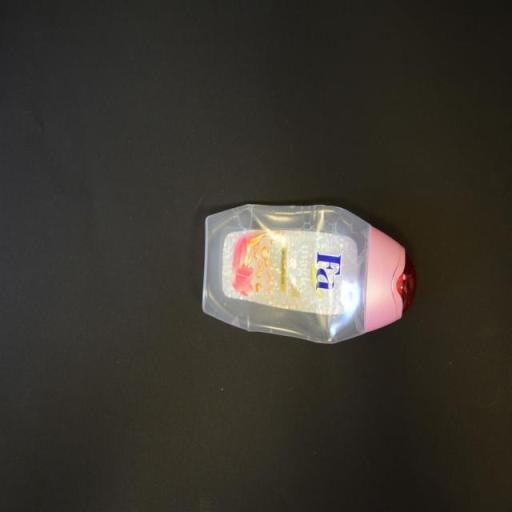plastic: (202, 204, 418, 348)
